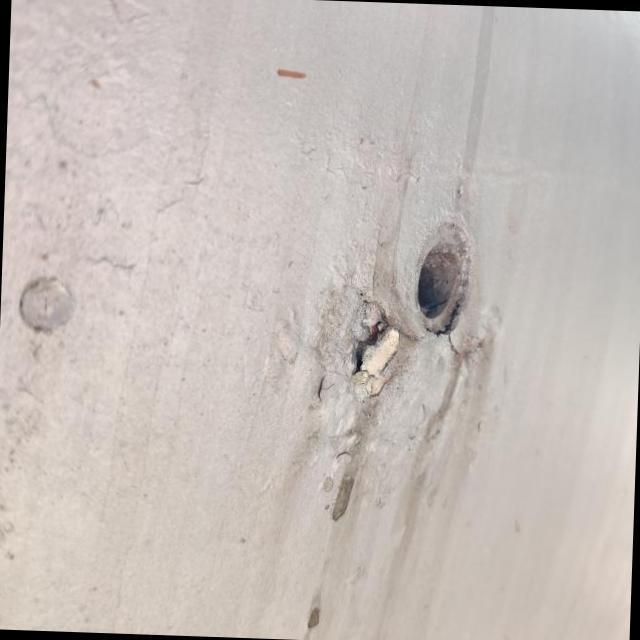Rupture: (318, 279, 442, 420)
